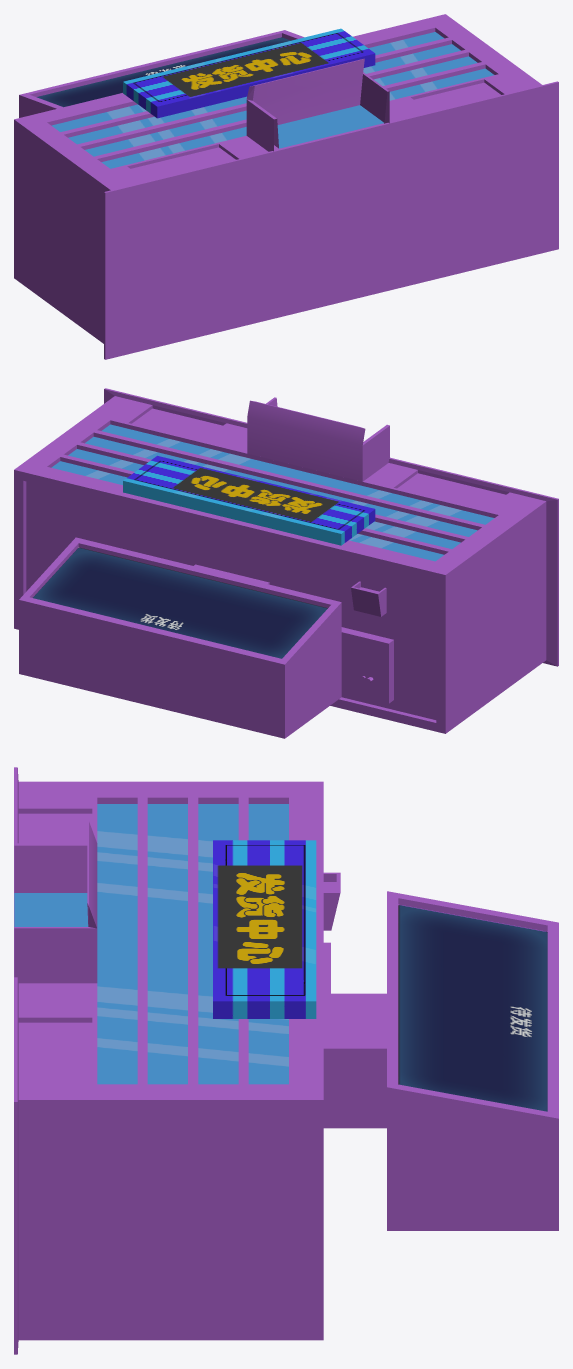
The model's file is FaHuo1_Mo.fbx.
3 views of the same model, one above another, from view 1: azimuth 30°, elevation 25°; view 2: azimuth 150°, elevation 25°; view 3: azimuth 270°, elevation 25° (orthographic). The views are drawn at different scales.
Parts seen in each view (by area): view 1: Cube425; view 2: Cube425; view 3: Cube425.
Part boxes in pixels (x1,y1,x2,y2): Cube425: (14,14,558,359); Cube425: (14,388,558,738); Cube425: (14,767,558,1354).
Size of the model in its own units: 656 by 295 by 451.
